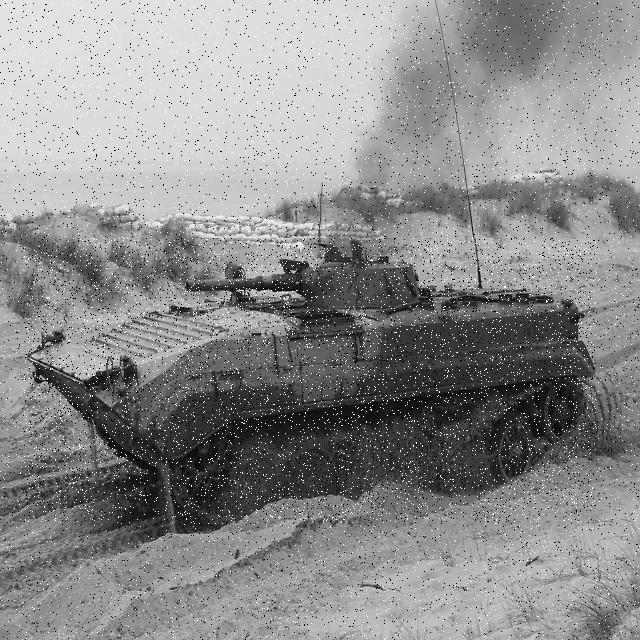MIL_MBT: (24, 239, 595, 522)
